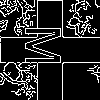M: (25, 25, 70, 67)
